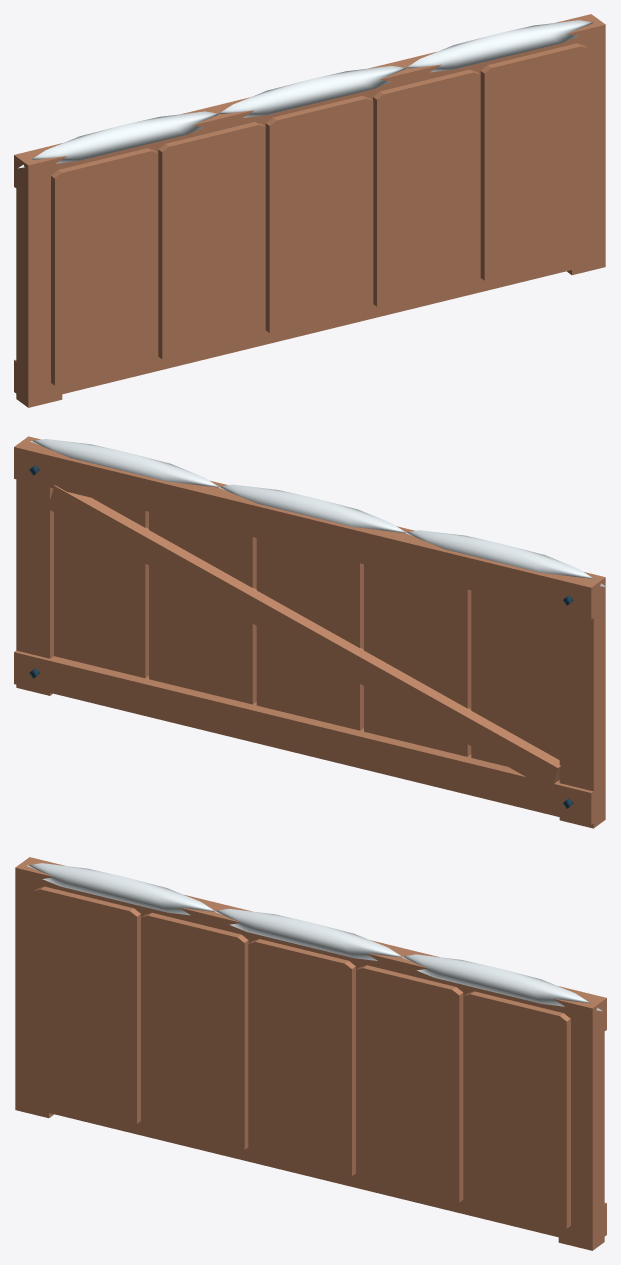
Rendered from opening_gate_leaf.obj.
The picture shows the model from 3 angles, top to bottom: view 1: azimuth 30°, elevation 25°; view 2: azimuth 150°, elevation 25°; view 3: azimuth 330°, elevation 25°; orthographic projection.
Parts seen in each view (by area): view 1: opening_gate_leaf; view 2: opening_gate_leaf; view 3: opening_gate_leaf.
Boxes of the visible parts, box(x1,y1,x2,y2) form: opening_gate_leaf: box(14, 14, 606, 407); opening_gate_leaf: box(14, 436, 606, 828); opening_gate_leaf: box(14, 857, 606, 1250).
Bounding box in the file's own units: 2.9 × 1.2 × 0.1784.
